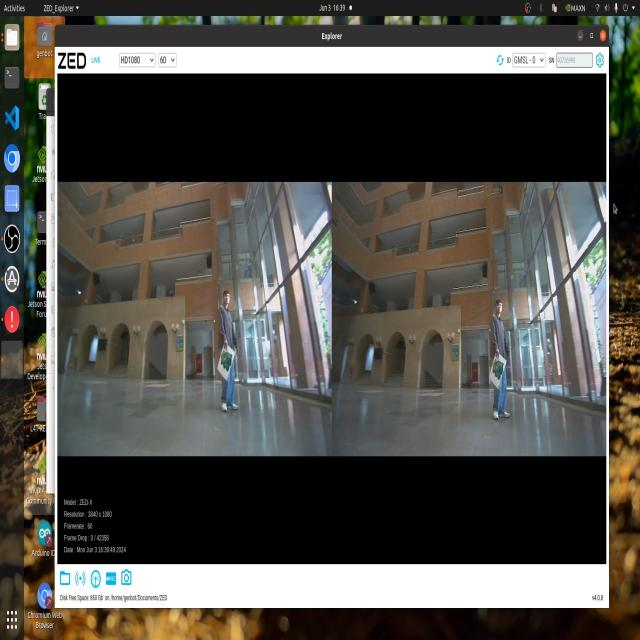green: (216, 346, 235, 377), (489, 351, 506, 382)
